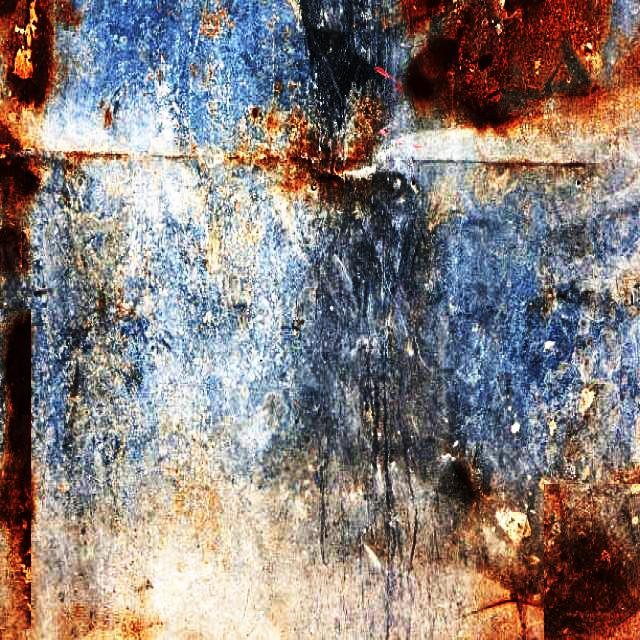Corrosion: (546, 486, 640, 640), (0, 315, 32, 576), (7, 0, 52, 104), (0, 121, 39, 200), (439, 455, 479, 504), (0, 227, 26, 272)
